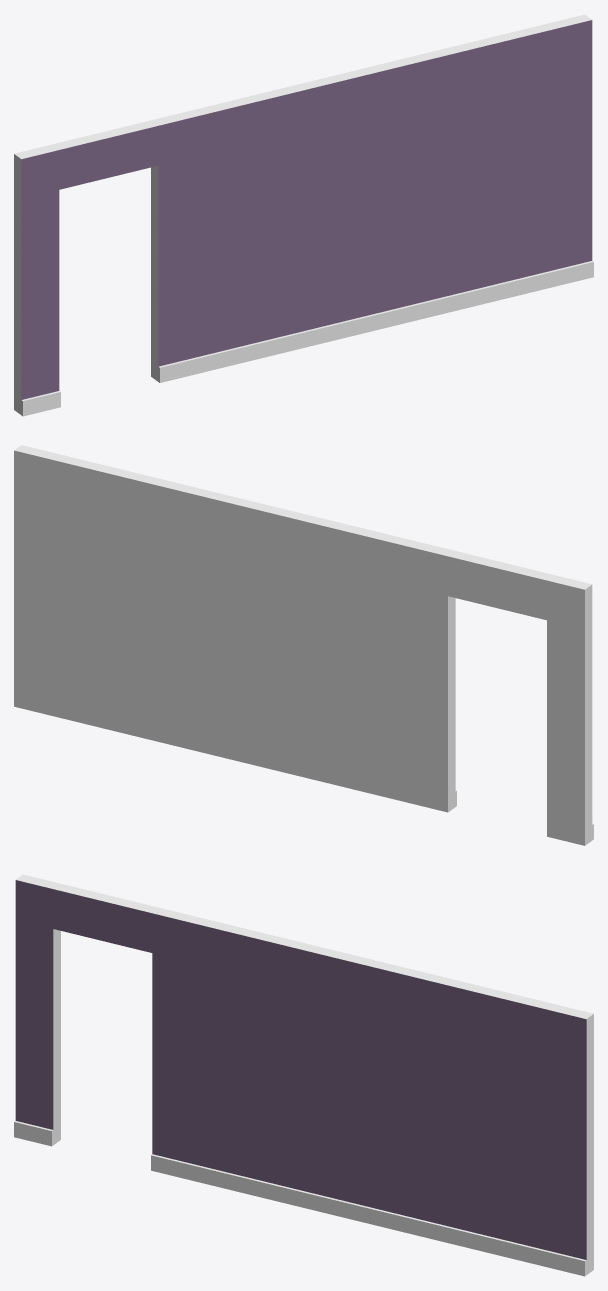
Rendered from Wall3.FBX.
3 views of the same model, one above another, from view 1: azimuth 30°, elevation 25°; view 2: azimuth 150°, elevation 25°; view 3: azimuth 330°, elevation 25° (orthographic).
Parts seen in each view (by area): view 1: Wall 3; view 2: Wall 3; view 3: Wall 3.
Boxes of the visible parts, x1,y1,x2,y2 form: Wall 3: (14, 14, 593, 416); Wall 3: (14, 445, 593, 845); Wall 3: (14, 874, 593, 1276).
Size of the model in its own units: 282 by 7.71 by 121.
